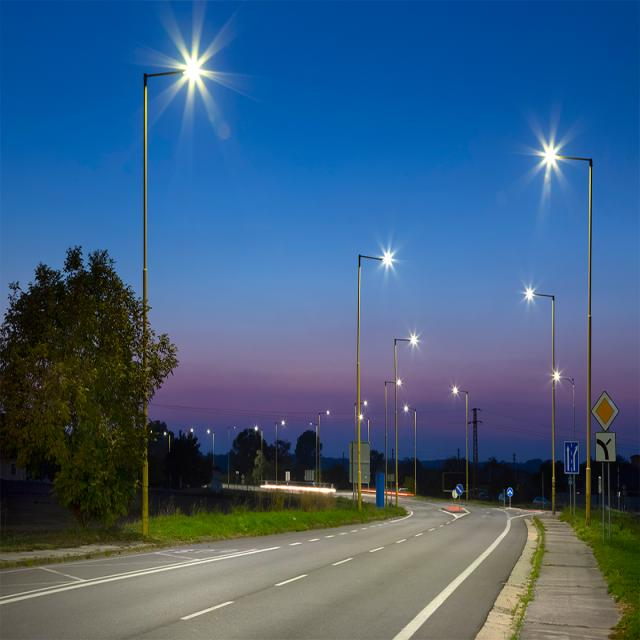Street Light: (141, 64, 203, 535), (543, 148, 595, 525), (357, 251, 394, 515), (525, 288, 557, 520), (393, 334, 420, 512), (384, 378, 401, 499), (452, 386, 469, 504), (353, 398, 367, 493), (403, 406, 417, 495), (318, 409, 329, 488), (360, 412, 370, 485), (276, 420, 286, 485), (227, 425, 236, 486), (309, 422, 318, 482), (254, 426, 263, 485), (207, 430, 215, 480), (187, 428, 194, 469)
